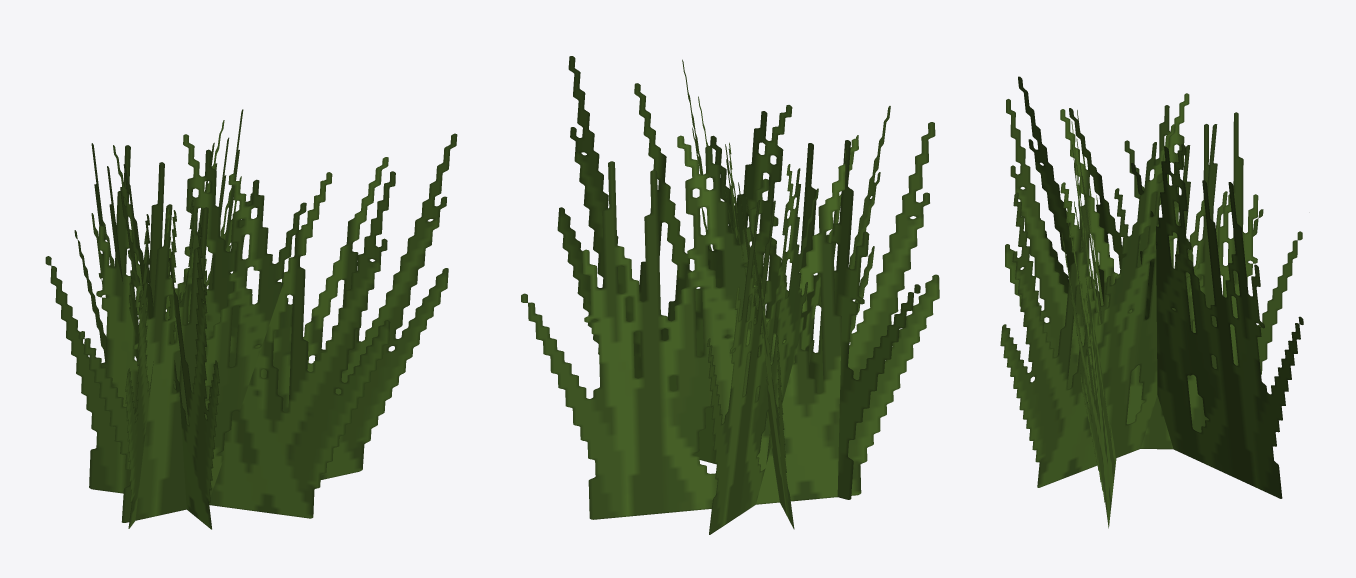
The model's file is tuft_b.glb.
3 views of the same model, side by side, from view 1: azimuth 30°, elevation 25°; view 2: azimuth 150°, elevation 25°; view 3: azimuth 270°, elevation 25° (orthographic). The views are drawn at different scales.
Parts seen in each view (by area): view 1: town_tuft; view 2: town_tuft; view 3: town_tuft.
Boxes of the visible parts, <box> form: town_tuft: <box>45,109,457,529</box>; town_tuft: <box>521,56,939,534</box>; town_tuft: <box>1000,76,1303,528</box>.
Size of the model in its own units: 0.3013 by 0.28 by 0.2471.
1 material, 1 textured.
